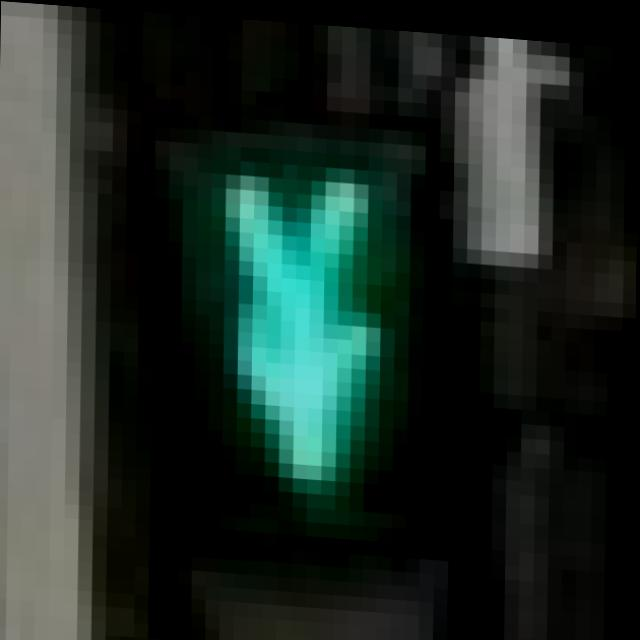green_light: (136, 137, 440, 580)
